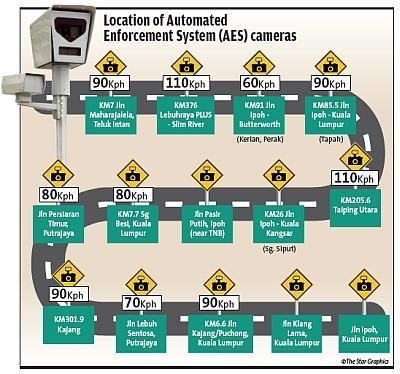Monitor: (2, 2, 397, 369), (18, 0, 93, 156)
